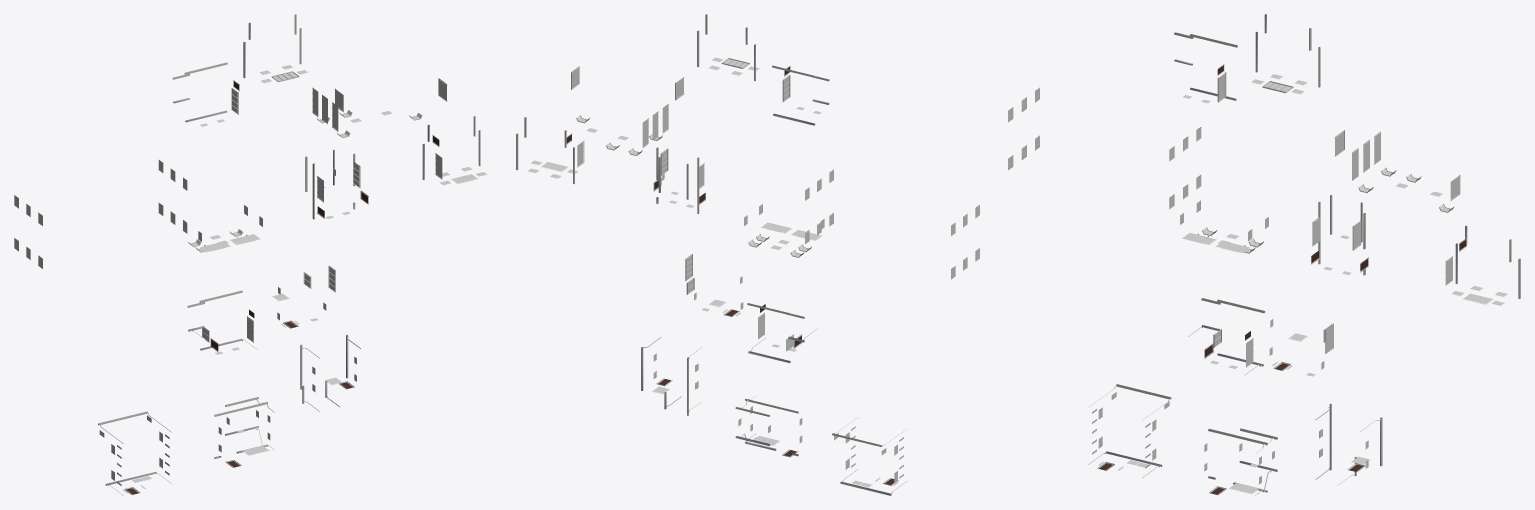
The picture shows the model from 3 angles, left to right: view 1: azimuth 30°, elevation 25°; view 2: azimuth 150°, elevation 25°; view 3: azimuth 330°, elevation 25°; orthographic projection. The views are drawn at different scales.
Visible parts, largest first — view 1: SM_000280.001; view 2: SM_000280.001; view 3: SM_000280.001.
Part boxes in pixels (x1,y1,x2,y2): SM_000280.001: (14, 14, 486, 495); SM_000280.001: (516, 14, 979, 495); SM_000280.001: (1008, 14, 1520, 495).
Bounding box in the file's own units: 73.47 × 67.12 × 10.67.
